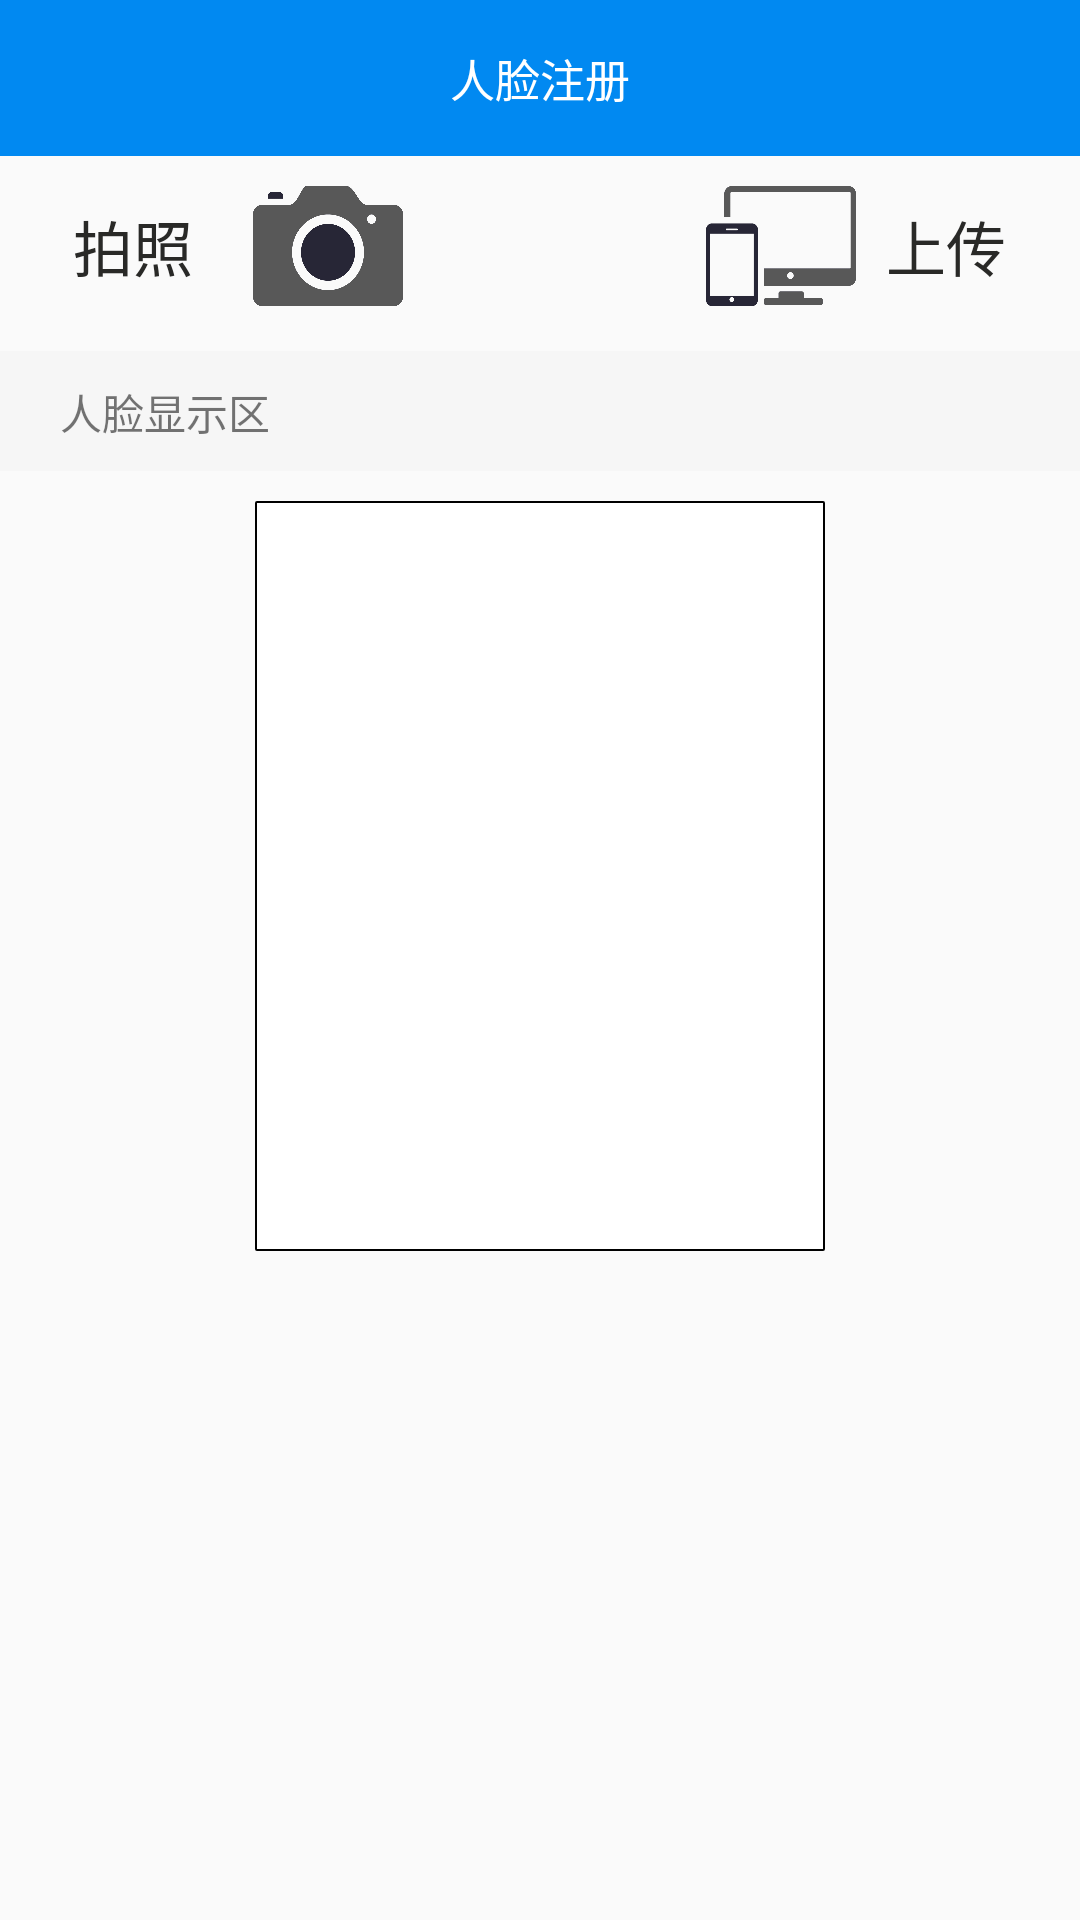

Icon click points for this 1080 x 1920 phone screenshot, format point (x, y):
take photos: point (328, 246)
